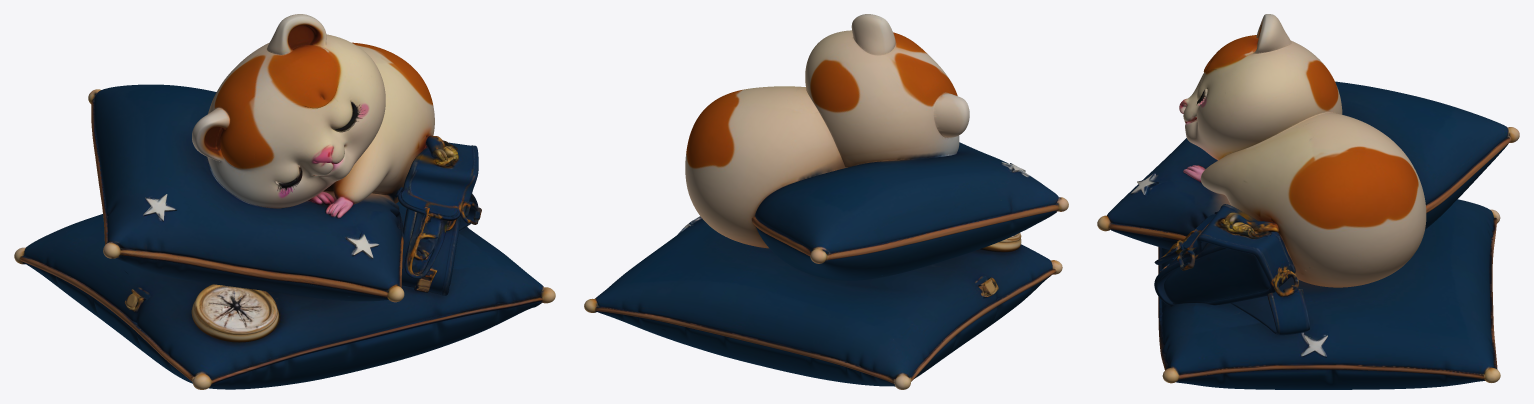
File: mochi-twilight.glb
The picture shows the model from 3 angles, left to right: view 1: azimuth 30°, elevation 25°; view 2: azimuth 150°, elevation 25°; view 3: azimuth 270°, elevation 25°; orthographic projection. The views are drawn at different scales.
Parts seen in each view (by area): view 1: material; view 2: material; view 3: material.
Part boxes in pixels (bbox=[...]): material: bbox=[14, 14, 555, 389]; material: bbox=[584, 14, 1068, 389]; material: bbox=[1097, 14, 1519, 389].
Size of the model in its own units: 0.839 by 0.6462 by 0.8016.
Materials: 1 (1 with a texture image).
